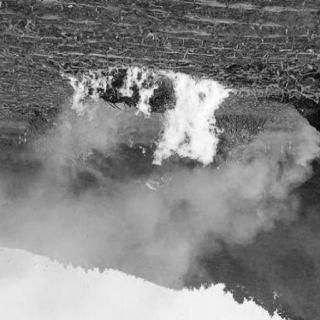Fire: (60, 61, 226, 171), (143, 176, 174, 192)
Smoke: (186, 172, 264, 232)
